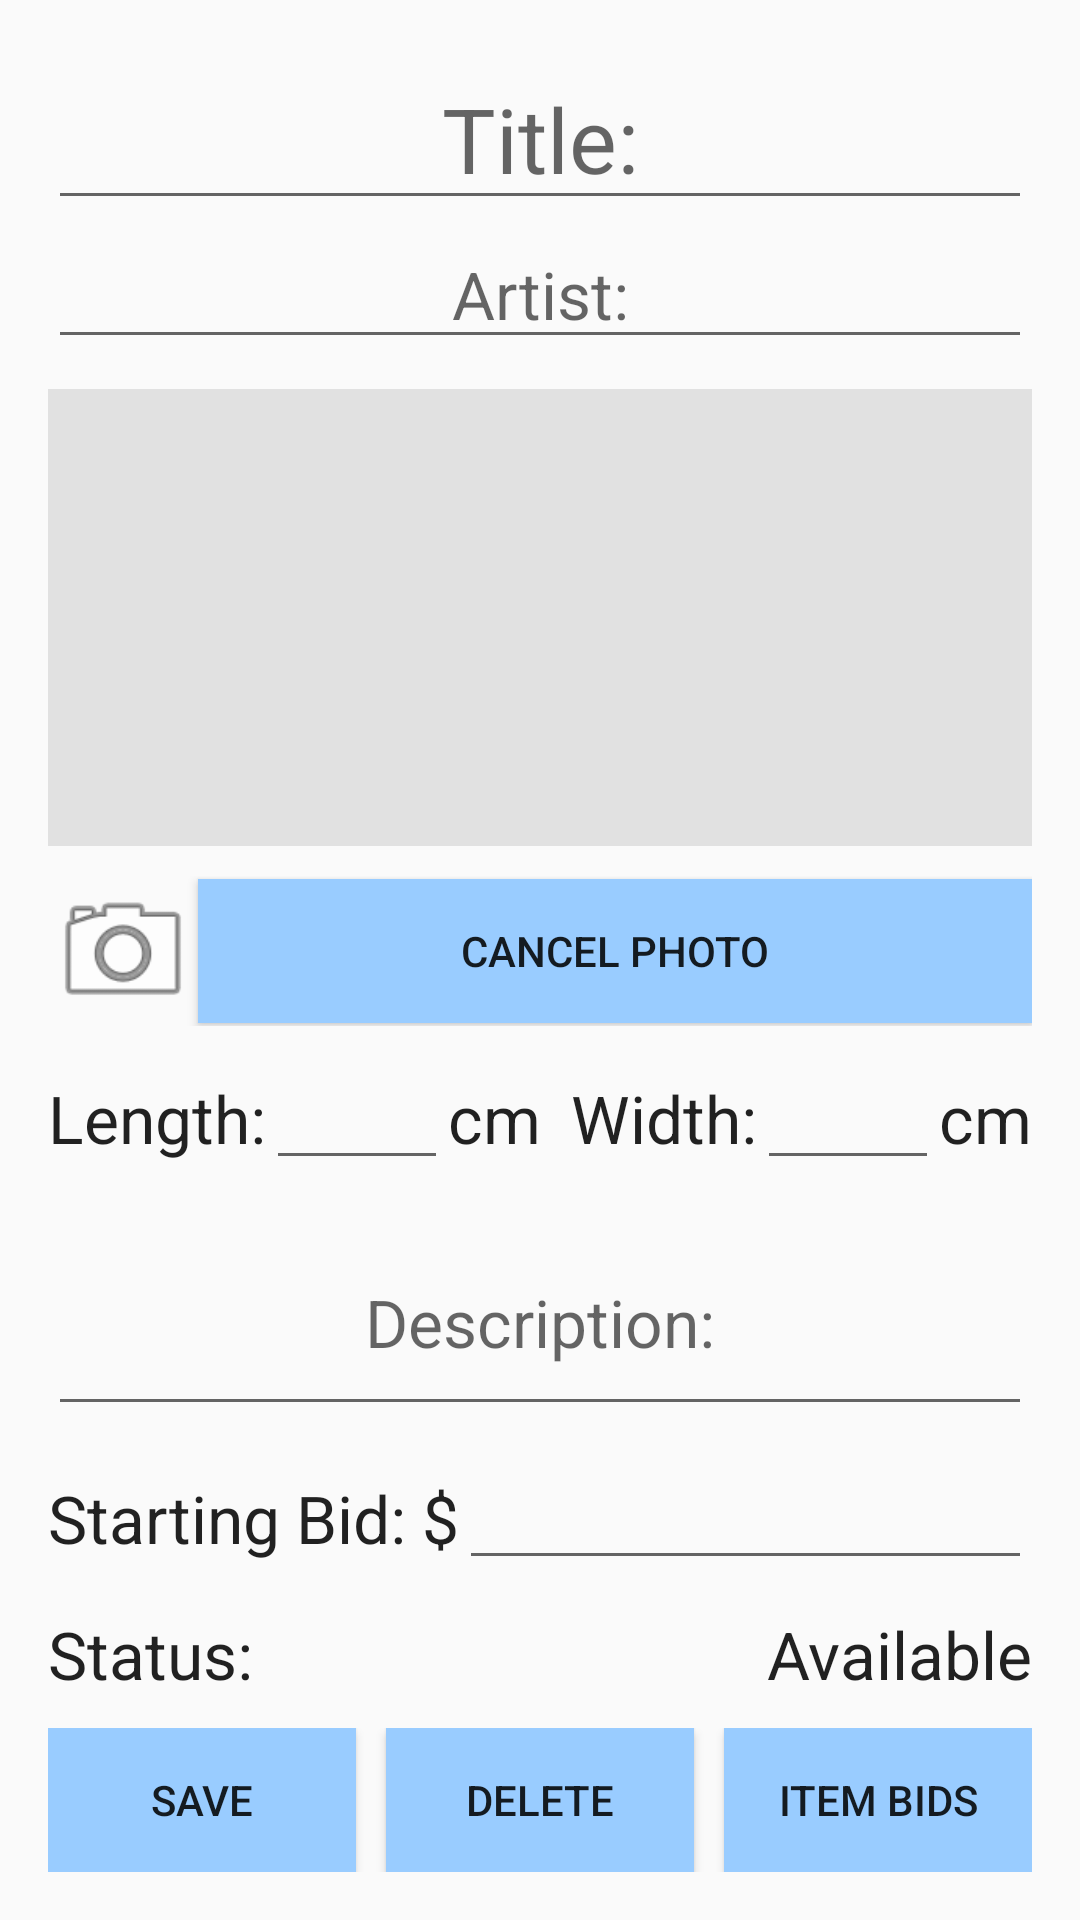

Icon bounding boxes for this 1080 x 1920 phone screenshot, format bbox=[x1, y1, x2, y2]:
camera: bbox=[65, 902, 181, 995]
